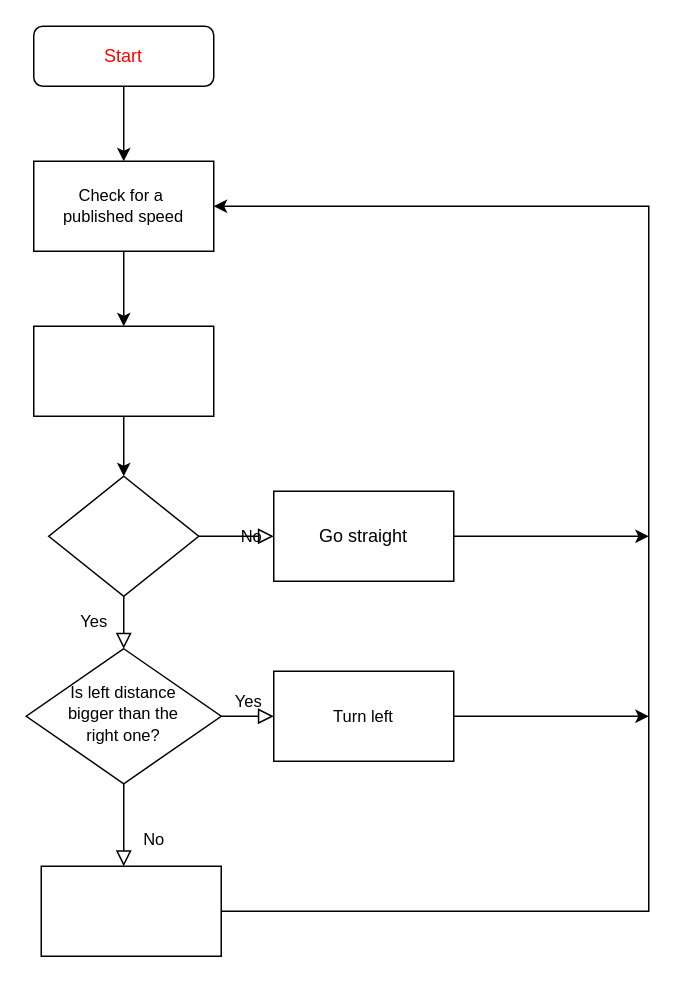
The diagram is 687 pixels wide and 983 high, and some of its shapes have lost their labels. The centre of each missing label's shape, as x and y in pixels:
check track limits: point (123, 370)
is robot closer to a front line?: point (123, 535)
Turn right: point (130, 910)
